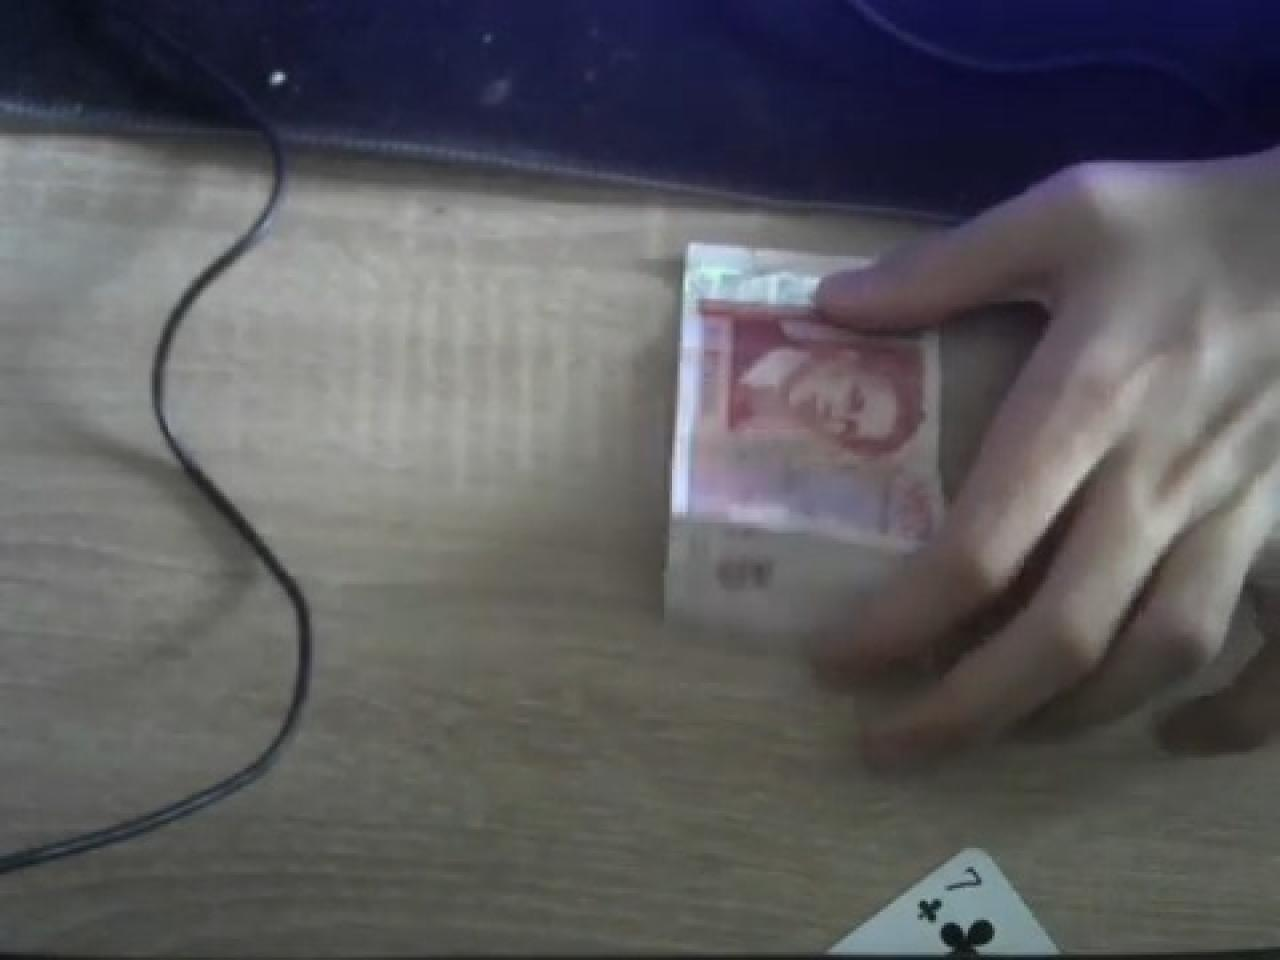5leva: (664, 243, 1008, 643)
